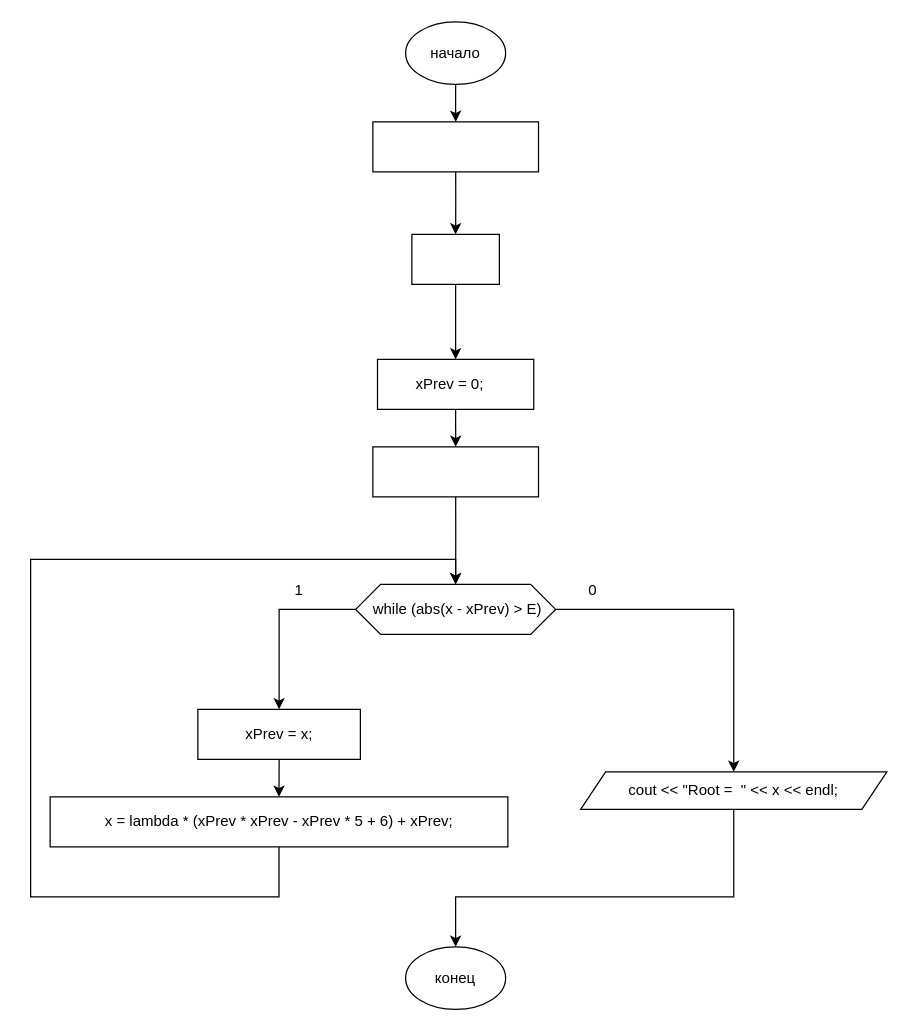
This 909x1031 diagram has some shape labels left out. The box of each missing label's shape, as (x1, y1, x2, y2) in pixels:
double E = 0.000001;: (372, 446, 538, 497)
double x, xPrev; double lambda = 0.1;: (372, 121, 538, 172)
x = 1;: (411, 233, 499, 284)
